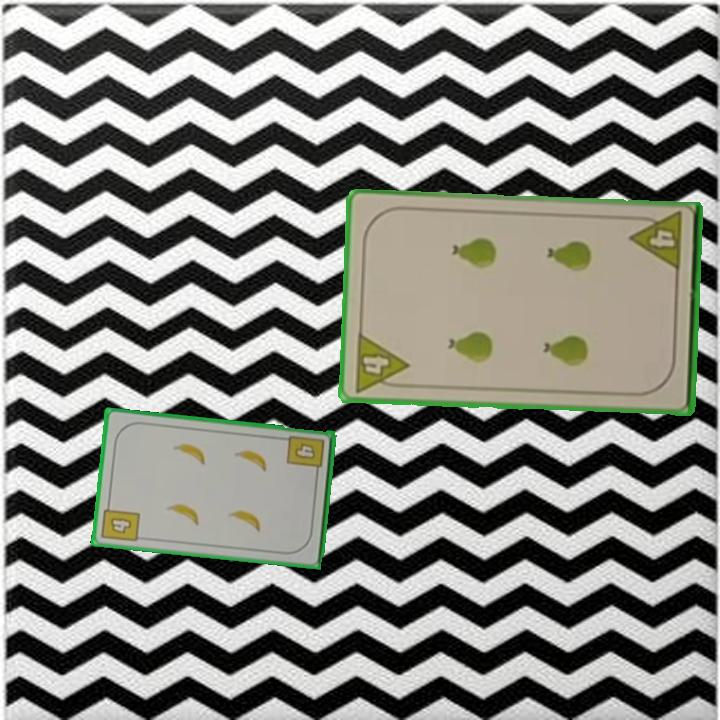4b: (98, 498, 143, 545), (284, 432, 328, 478)
4p: (350, 330, 411, 395), (627, 210, 685, 275)
